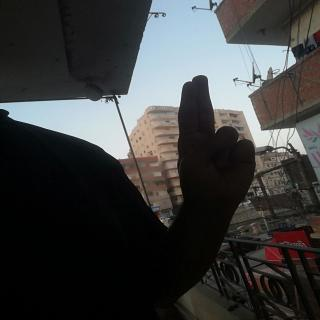TA: (158, 72, 278, 221)
